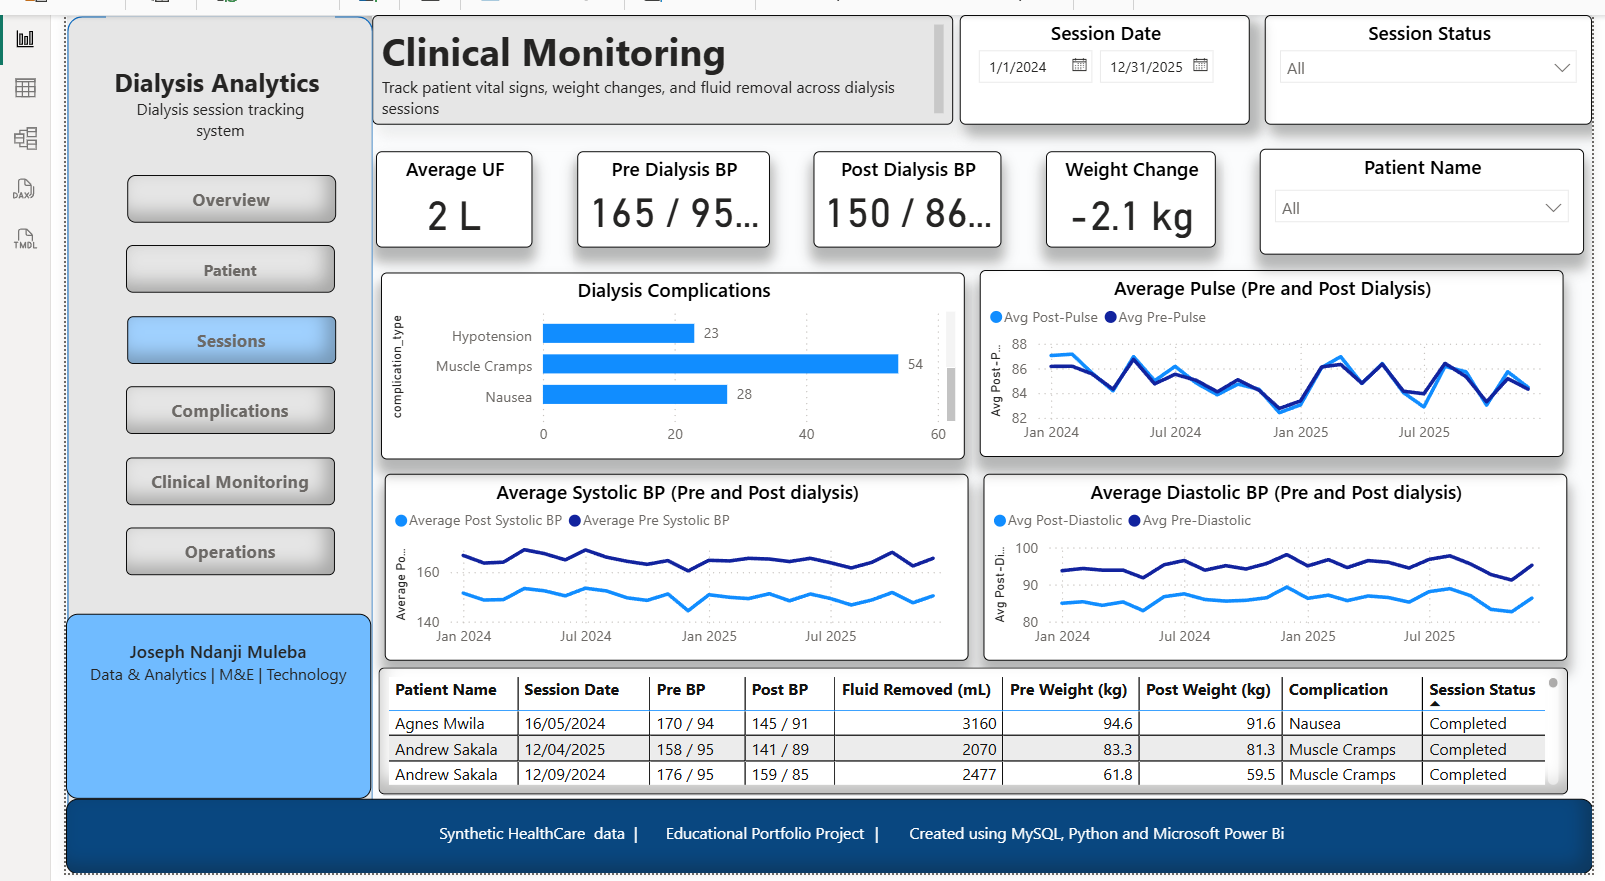

This screenshot's page, from the dashboard's own definition file:
{"tool":"powerbi","page":{"name":"Patient info","canvas":[1280,720],"ordinal":1},"visuals":[{"type":"textbox","box":[0,0,1278.8,99.9],"z":0},{"type":"lineChart","title":"Average Systolic BP (Pre and Post dialysis)","fields":{"Category":["dialysis_tracker sessions.session_date.Variation.Date Hierarchy.Year","dialysis_tracker sessions.session_date.Variation.Date Hierarchy.Month"],"Y":["Dashboard Measures.Average Pre Systolic BP","Dashboard Measures.Average Post Systolic BP"]},"box":[283.4,454.8,490,145.6],"z":0,"group":"g1"},{"type":"group","id":"g1","title":"Charts ","box":[7.5,297.5,1268.8,407.5],"z":1000},{"type":"lineChart","title":"Average Diastolic BP (Pre and Post dialysis)","fields":{"Category":["dialysis_tracker sessions.session_date.Variation.Date Hierarchy.Year","dialysis_tracker sessions.session_date.Variation.Date Hierarchy.Month"],"Y":["Dashboard Measures.Avg Post-Diastolic","Dashboard Measures.Avg Pre-Diastolic"]},"box":[785,454.8,490,145.6],"z":1000,"group":"g1"},{"type":"card","title":"Avg Fluid Removal","fields":{"Values":["Dashboard Measures.Avg Fluid Removed Display"]},"box":[496.2,115,168.6,81.2],"z":2000},{"type":"barChart","title":"Dialysis Complications","fields":{"Category":["dialysis_tracker session_complications.complication_type"],"Y":["Count(dialysis_tracker session_complications.complication_id)"]},"box":[279.9,297.5,490,145.6],"z":2000,"group":"g1"},{"type":"card","title":"Avg Session Duration (hrs)","fields":{"Values":["Avg(dialysis_tracker sessions.actual_duration_hours)"]},"box":[711.2,115,124.8,81.8],"z":3000},{"type":"lineChart","title":"Average Pulse (Pre and Post Dialysis)","fields":{"Category":["dialysis_tracker sessions.session_date.Variation.Date Hierarchy.Year","dialysis_tracker sessions.session_date.Variation.Date Hierarchy.Month"],"Y":["Dashboard Measures.Avg Pre-Weight","Dashboard Measures.Avg Post-Weight"]},"box":[781.3,304,495,137.7],"z":3000,"group":"g1"},{"type":"card","title":"Completed Sessions","fields":{"Values":["Dashboard Measures.Completed Sessions"]},"box":[1151.2,116.2,124.8,81.8],"z":4000},{"type":"tableEx","title":"Session monitoring ","fields":{"Values":["dialysis_tracker patients.Patient Name","dialysis_tracker sessions.session_date","dialysis_tracker vital_logs.Pre BP","dialysis_tracker vital_logs.Post BP","dialysis_tracker sessions.fluid_removed_ml","dialysis_tracker vital_logs.pre_weight","dialysis_tracker vital_logs.post_weight","dialysis_tracker session_complications.complication_type","dialysis_tracker sessions.session_status","Sum(dialysis_tracker sessions.actual_duration_hours)"]},"box":[7.5,605,1267.9,100],"z":4000,"group":"g1"},{"type":"card","title":"Completion rate ","fields":{"Values":["Dashboard Measures.Session Completion Rate"]},"box":[1000,115,124.8,81.8],"z":5000},{"type":"card","title":"Total Sessions","fields":{"Values":["Dashboard Measures.Total Sessions"]},"box":[856.2,115,124.8,81.8],"z":6000},{"type":"slicer","fields":{"Values":["dialysis_tracker patients.Patient Name"]},"box":[607.4,0,345,89.7],"z":7000},{"type":"slicer","fields":{"Values":["dialysis_tracker sessions.session_date.Variation.Date Hierarchy.Year","dialysis_tracker sessions.session_date.Variation.Date Hierarchy.Month"]},"box":[952.2,0,327.8,89.7],"z":8000},{"type":"card","title":"Average Post-Dialysis BP","fields":{"Values":["dialysis_tracker vital_logs.Pre-Dialysis BP"]},"box":[521.2,210,288.9,67.1],"z":9000},{"type":"card","title":"Average Pre-Dialysis BP","fields":{"Values":["dialysis_tracker vital_logs.Pre-Dialysis BP"]},"box":[911.2,210,301.3,67.1],"z":10000},{"type":"cardVisual","fields":{"Data":["Min(dialysis_tracker patients.Patient Name)"]},"box":[0,99.9,277.9,287.3],"z":11000},{"type":"donutChart","title":"Session Status","fields":{"Category":["dialysis_tracker sessions.session_status"],"Y":["CountNonNull(dialysis_tracker sessions.session_id)"]},"box":[0,386.9,278.7,213.1],"z":12000}]}

Visuals, with their boxes on the page's 1280x720 design canvas (x1, y1, x2, y2). These are canvas units, not pixel positions in the 1605x881 screenshot, which may show the page scaled, cropped or inside an application window:
textbox: left=0, top=0, right=1279, bottom=100
"Average Systolic BP (Pre and Post dialysis)" lineChart: left=283, top=455, right=773, bottom=600
"Charts " group: left=8, top=298, right=1276, bottom=705
"Average Diastolic BP (Pre and Post dialysis)" lineChart: left=785, top=455, right=1275, bottom=600
"Avg Fluid Removal" card: left=496, top=115, right=665, bottom=196
"Dialysis Complications" barChart: left=280, top=298, right=770, bottom=443
"Avg Session Duration (hrs)" card: left=711, top=115, right=836, bottom=197
"Average Pulse (Pre and Post Dialysis)" lineChart: left=781, top=304, right=1276, bottom=442
"Completed Sessions" card: left=1151, top=116, right=1276, bottom=198
"Session monitoring " tableEx: left=8, top=605, right=1275, bottom=705
"Completion rate " card: left=1000, top=115, right=1125, bottom=197
"Total Sessions" card: left=856, top=115, right=981, bottom=197
slicer - dialysis_tracker patients.Patient Name: left=607, top=0, right=952, bottom=90
slicer - dialysis_tracker sessions.session_date.Variation.Date Hierarchy.Year x dialysis_tracker sessions.session_date.Variation.Date Hierarchy.Month: left=952, top=0, right=1280, bottom=90
"Average Post-Dialysis BP" card: left=521, top=210, right=810, bottom=277
"Average Pre-Dialysis BP" card: left=911, top=210, right=1212, bottom=277
cardVisual - Min(dialysis_tracker patients.Patient Name): left=0, top=100, right=278, bottom=387
"Session Status" donutChart: left=0, top=387, right=279, bottom=600
